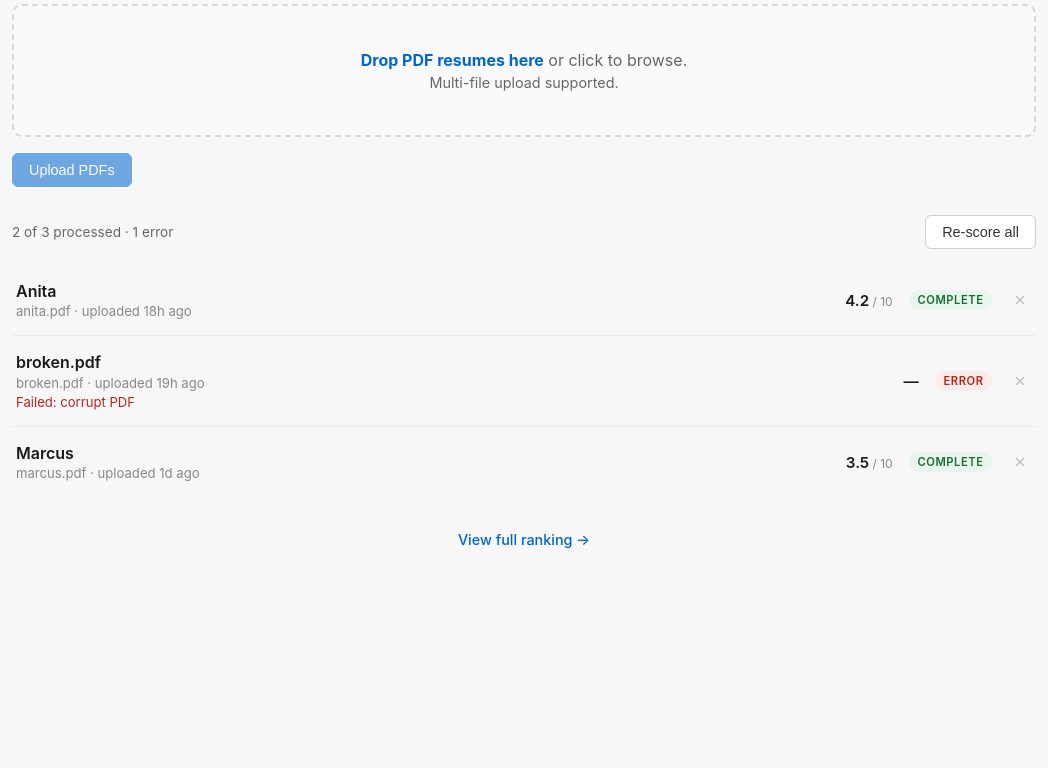
Test: ResumesTab › delete icon confirms then deletes and removes the row
Expected: the text "Anita" is shown, [16, 281, 56, 301]
Click the button named "delete anita": (1020, 300) [1008, 288, 1032, 312]
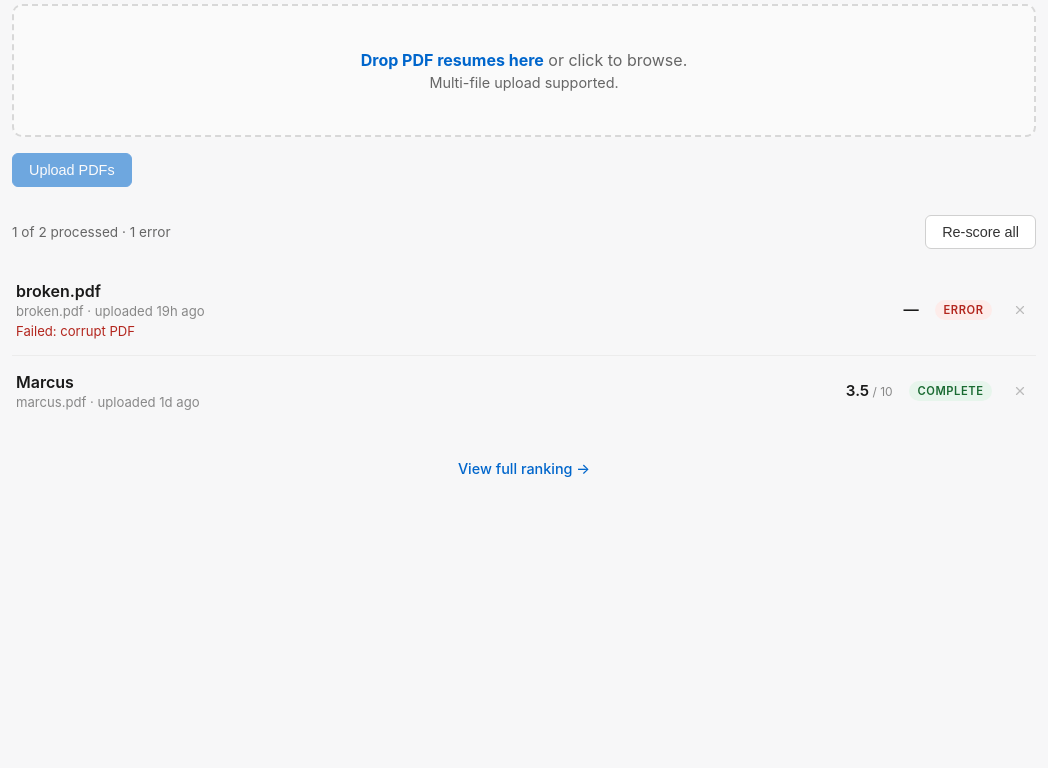
Expected: the button "Anita" is gone
